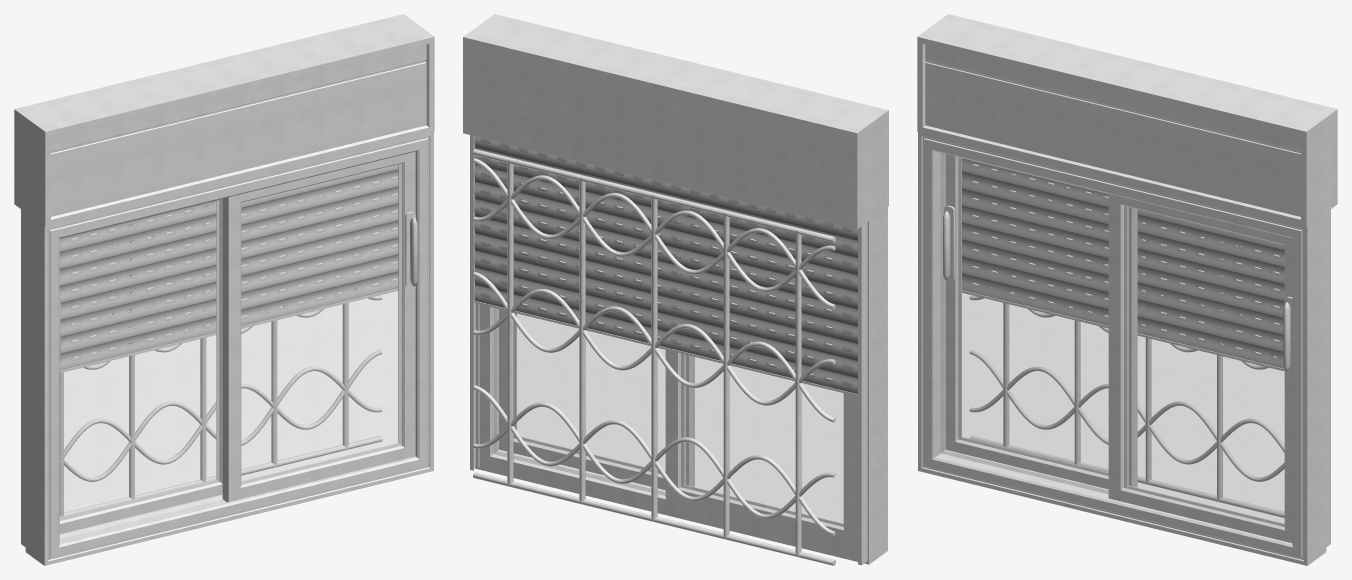
The model's file is window.obj.
The picture shows the model from 3 angles, left to right: view 1: azimuth 30°, elevation 25°; view 2: azimuth 150°, elevation 25°; view 3: azimuth 330°, elevation 25°; orthographic projection.
Visible parts, largest first — view 1: shutter_box, sash_right_glass, sash_left_glass, shutter_laths_vented, frame, sash_right, security_grille, shutter_bottom_rail, sash_left, shutter_guides, handles, shutter_end_rail; view 2: shutter_box, shutter_laths_vented, security_grille, sash_left_glass, frame, sash_right_glass, sash_left, shutter_guides, shutter_bottom_rail, sash_right, shutter_end_rail; view 3: shutter_box, sash_right_glass, sash_left_glass, frame, shutter_laths_vented, sash_right, security_grille, sash_left, shutter_bottom_rail, shutter_guides, handles, shutter_end_rail (+1 smaller).
Part boxes in pixels (x1,y1,x2,y2): shutter_box: (14, 14, 434, 226); sash_right_glass: (241, 164, 401, 483); sash_left_glass: (60, 200, 219, 520); shutter_laths_vented: (59, 164, 398, 353); frame: (25, 132, 433, 565); sash_right: (222, 151, 415, 502); security_grille: (59, 194, 382, 517); shutter_bottom_rail: (59, 271, 398, 370); sash_left: (59, 198, 222, 533); shutter_guides: (21, 209, 25, 546); handles: (59, 211, 417, 361); shutter_end_rail: (59, 288, 398, 372); shutter_box: (463, 14, 888, 229); shutter_laths_vented: (474, 136, 857, 377); security_grille: (473, 149, 835, 565); sash_left_glass: (681, 225, 843, 526); frame: (475, 139, 887, 564); sash_right_glass: (514, 183, 665, 473); sash_left: (665, 220, 853, 544); shutter_guides: (470, 135, 867, 565); shutter_bottom_rail: (474, 284, 857, 393); sash_right: (499, 178, 694, 490); shutter_end_rail: (474, 301, 857, 396); shutter_box: (917, 14, 1337, 226); sash_right_glass: (1124, 206, 1284, 526); sash_left_glass: (958, 158, 1108, 475); frame: (918, 132, 1326, 565); shutter_laths_vented: (962, 158, 1284, 351); sash_right: (1108, 194, 1292, 542); security_grille: (969, 173, 1284, 517); sash_left: (945, 154, 1137, 489); shutter_bottom_rail: (962, 273, 1283, 368); shutter_guides: (1326, 209, 1330, 546); handles: (943, 205, 1292, 372); shutter_end_rail: (962, 290, 1284, 371).
Size of the model in its own units: 1.2 by 1.28 by 0.2123.
Materials: 9 (9 with a texture image).
